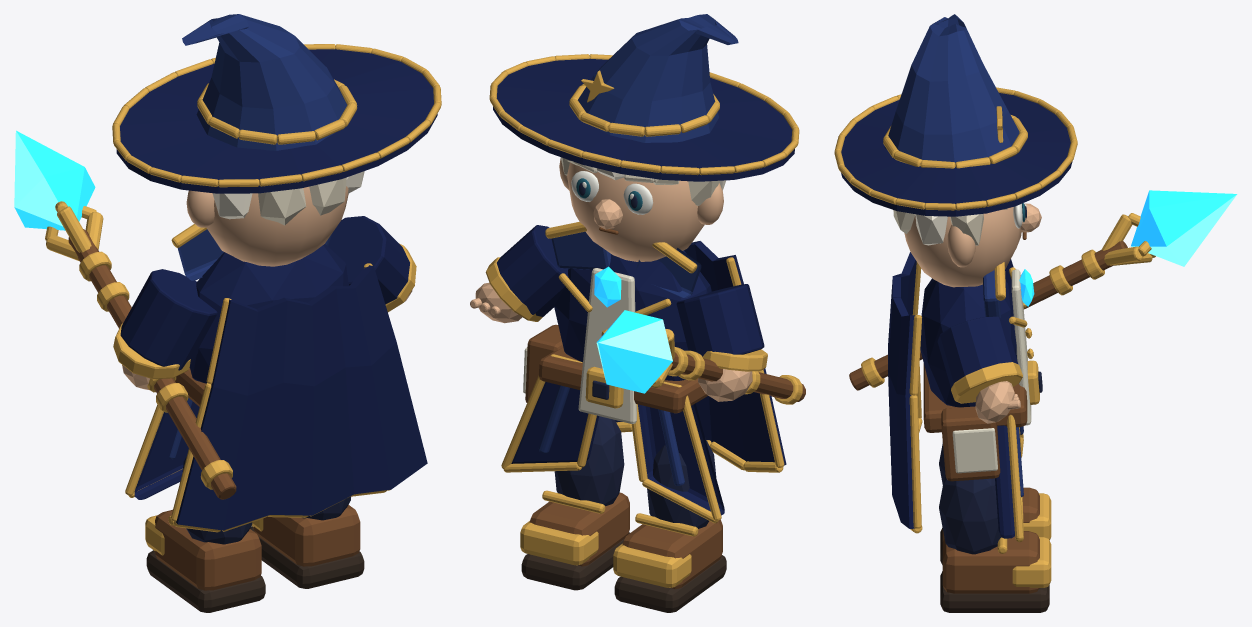
The model's file is ian-reset.glb.
3 views of the same model, side by side, from view 1: azimuth 30°, elevation 25°; view 2: azimuth 150°, elevation 25°; view 3: azimuth 270°, elevation 25° (orthographic). The views are drawn at different scales.
Visible parts, largest first — view 1: Ian surface 14, Ian surface 25, Ian surface 27, Ian surface 09, Ian surface 26, Ian surface 18, Ian surface 28, Ian surface 36, Ian surface 02, Ian surface 35, Ian surface 06, Ian surface 31 (+11 smaller); view 2: Ian surface 25, Ian surface 09, Ian surface 27, Ian surface 18, Ian surface 11, Ian surface 26, Ian surface 14, Ian surface 28, Ian surface 36, Ian surface 12, Ian surface 16, Ian surface 31 (+19 smaller); view 3: Ian surface 25, Ian surface 27, Ian surface 09, Ian surface 14, Ian surface 18, Ian surface 26, Ian surface 36, Ian surface 06, Ian surface 08, Ian surface 31, Ian surface 16, Ian surface 10 (+13 smaller).
Boxes of the visible parts, left/top/right/bottom form: Ian surface 14: left=176, top=265, right=427, bottom=530; Ian surface 25: left=116, top=49, right=437, bottom=193; Ian surface 27: left=182, top=14, right=347, bottom=150; Ian surface 09: left=134, top=244, right=349, bottom=499; Ian surface 26: left=112, top=44, right=441, bottom=187; Ian surface 18: left=186, top=186, right=348, bottom=266; Ian surface 28: left=120, top=269, right=217, bottom=370; Ian surface 36: left=14, top=130, right=95, bottom=230; Ian surface 02: left=154, top=509, right=261, bottom=590; Ian surface 35: left=45, top=201, right=232, bottom=489; Ian surface 06: left=253, top=505, right=360, bottom=566; Ian surface 31: left=328, top=216, right=409, bottom=304; Ian surface 25: left=493, top=58, right=794, bottom=181; Ian surface 09: left=511, top=250, right=724, bottom=515; Ian surface 27: left=578, top=14, right=738, bottom=142; Ian surface 18: left=559, top=158, right=723, bottom=261; Ian surface 11: left=501, top=221, right=721, bottom=523; Ian surface 26: left=489, top=54, right=799, bottom=175; Ian surface 14: left=615, top=241, right=786, bottom=465; Ian surface 28: left=676, top=284, right=764, bottom=356; Ian surface 36: left=596, top=310, right=672, bottom=393; Ian surface 12: left=538, top=231, right=701, bottom=485; Ian surface 16: left=525, top=324, right=707, bottom=413; Ian surface 31: left=496, top=225, right=568, bottom=316; Ian surface 25: left=841, top=93, right=1072, bottom=216; Ian surface 27: left=884, top=14, right=1019, bottom=162; Ian surface 09: left=920, top=278, right=1017, bottom=538; Ian surface 14: left=888, top=252, right=916, bottom=528; Ian surface 18: left=904, top=203, right=1041, bottom=287; Ian surface 26: left=834, top=87, right=1077, bottom=210; Ian surface 36: left=1131, top=190, right=1237, bottom=266; Ian surface 06: left=942, top=531, right=1039, bottom=593; Ian surface 08: left=939, top=474, right=1001, bottom=554; Ian surface 31: left=937, top=316, right=1017, bottom=387; Ian surface 16: left=923, top=363, right=1027, bottom=481; Ian surface 10: left=952, top=269, right=1031, bottom=473.
Size of the model in its own units: 2.11 by 3.87 by 2.65.
